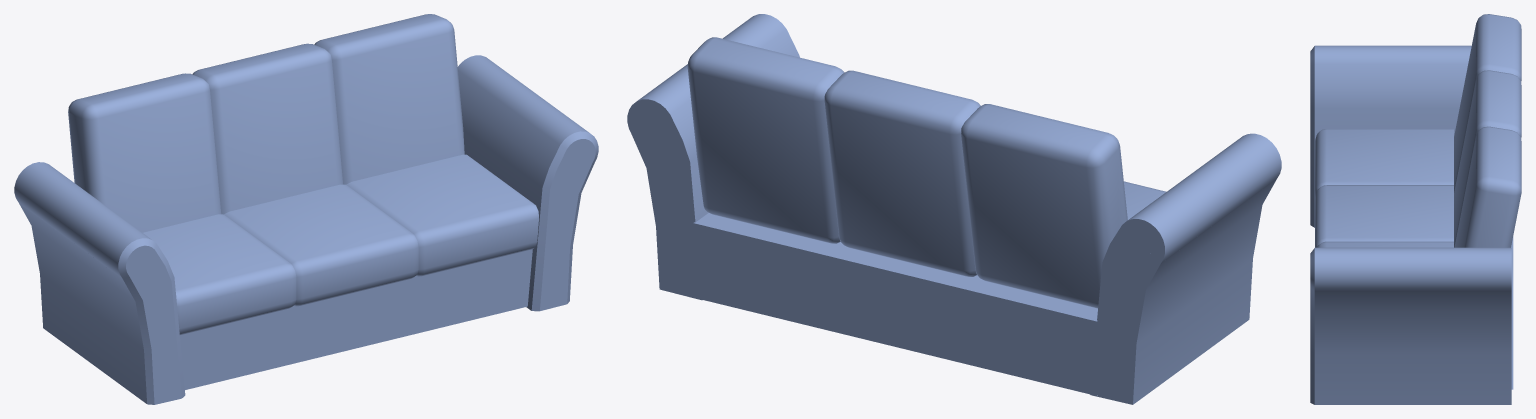
Rendered from sofa2.fbx.
3 renders of one model, left to right at view 1: azimuth 30°, elevation 25°; view 2: azimuth 150°, elevation 25°; view 3: azimuth 270°, elevation 25°, orthographic. The views are drawn at different scales.
Visible parts, largest first — view 1: Объект_Ноль_1; view 2: Объект_Ноль_1; view 3: Объект_Ноль_1.
Part boxes in pixels (bbox=[...]): Объект_Ноль_1: bbox=[14, 14, 598, 404]; Объект_Ноль_1: bbox=[627, 14, 1281, 404]; Объект_Ноль_1: bbox=[1310, 14, 1521, 404].
Bounding box in the file's own units: 365 × 163 × 147.
